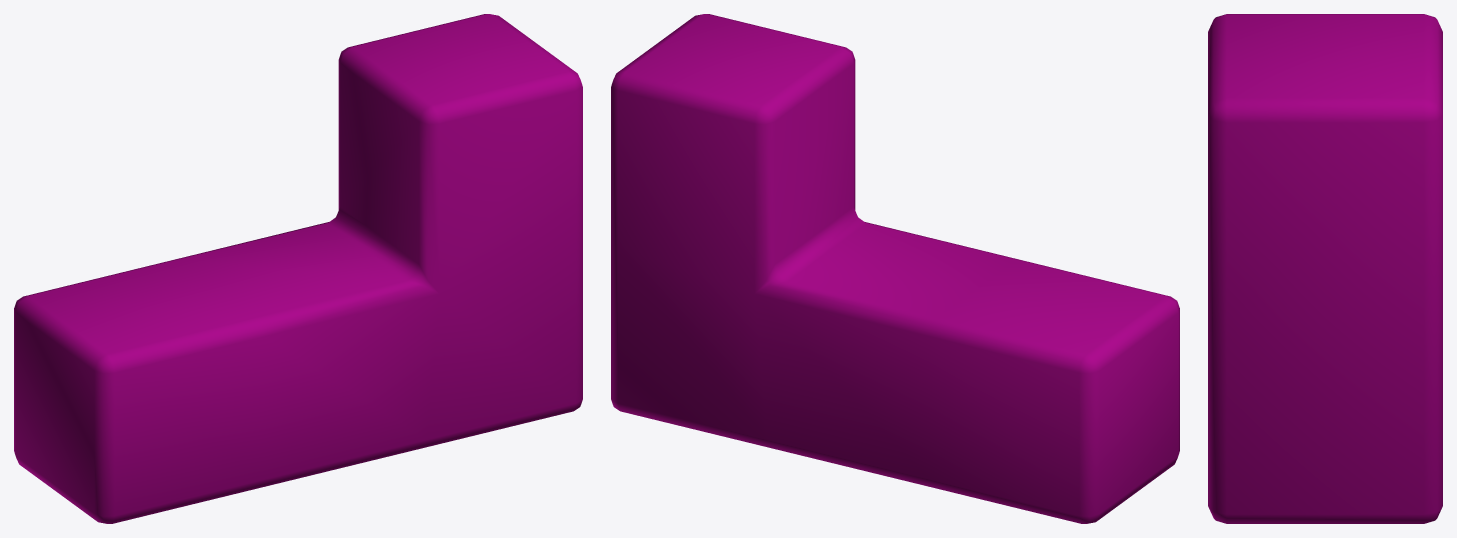
3 views of the same model, side by side, from view 1: azimuth 30°, elevation 25°; view 2: azimuth 150°, elevation 25°; view 3: azimuth 270°, elevation 25° (orthographic). The views are drawn at different scales.
Parts seen in each view (by area): view 1: plus; view 2: plus; view 3: plus.
Boxes of the visible parts, x1,y1,x2,y2 form: plus: [14, 14, 582, 523]; plus: [611, 14, 1179, 523]; plus: [1208, 14, 1442, 523].
Size of the model in its own units: 6 by 4 by 2.
